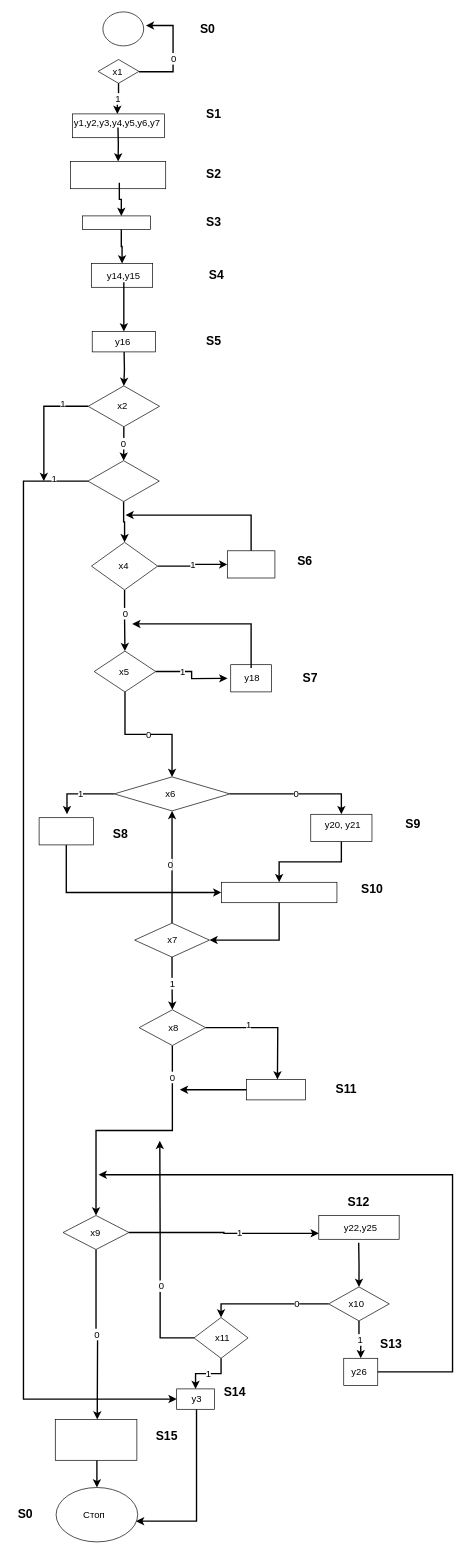
Image size: 470x1554. Some labels were removed from this diagram. Here are the shapes that lost their labels. From the top down, the centre of each, then its label:
At pixel 123 28: "Старт".
At pixel 118 175: "y8,y9,y10,y11,y12".
At pixel 116 222: "y13".
At pixel 123 481: "x3".
At pixel 251 564: "y17".
At pixel 66 831: "y19, y21".
At pixel 279 892: "y22, y23".
At pixel 275 1089: "y24".
At pixel 96 1439: "y27 y28".
